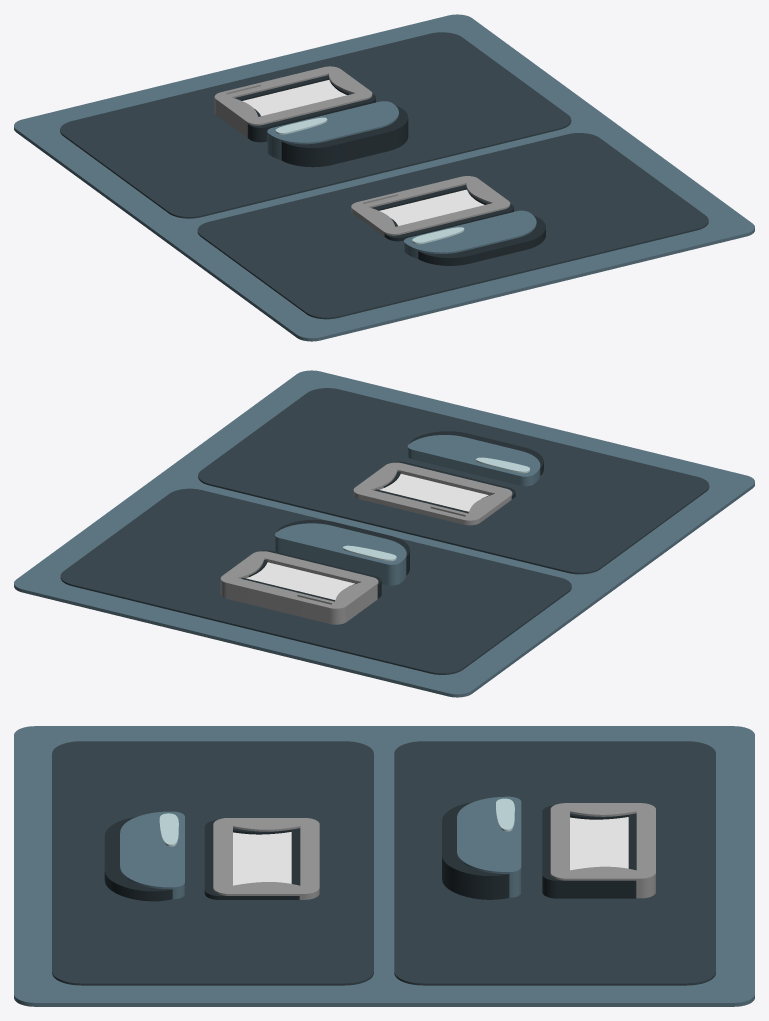
File: emoji_u1f5c4.glb
3 renders of one model, top to bottom at view 1: azimuth 30°, elevation 25°; view 2: azimuth 150°, elevation 25°; view 3: azimuth 270°, elevation 25°, orthographic. The views are drawn at different scales.
Parts seen in each view (by area): view 1: emoji_u1f5c4; view 2: emoji_u1f5c4; view 3: emoji_u1f5c4.
Part boxes in pixels (bbox=[...]): emoji_u1f5c4: bbox=[14, 14, 754, 341]; emoji_u1f5c4: bbox=[14, 370, 754, 697]; emoji_u1f5c4: bbox=[14, 726, 754, 1006].
Size of the model in its own units: 0.0299 by 0.0032 by 0.0339.
